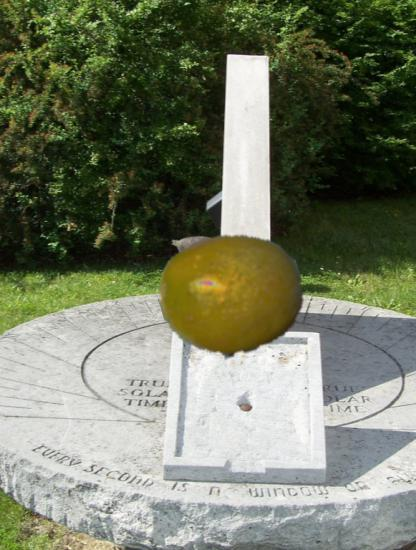Beetroot: (168, 224, 223, 279)
Maracuja: (160, 224, 303, 367)
